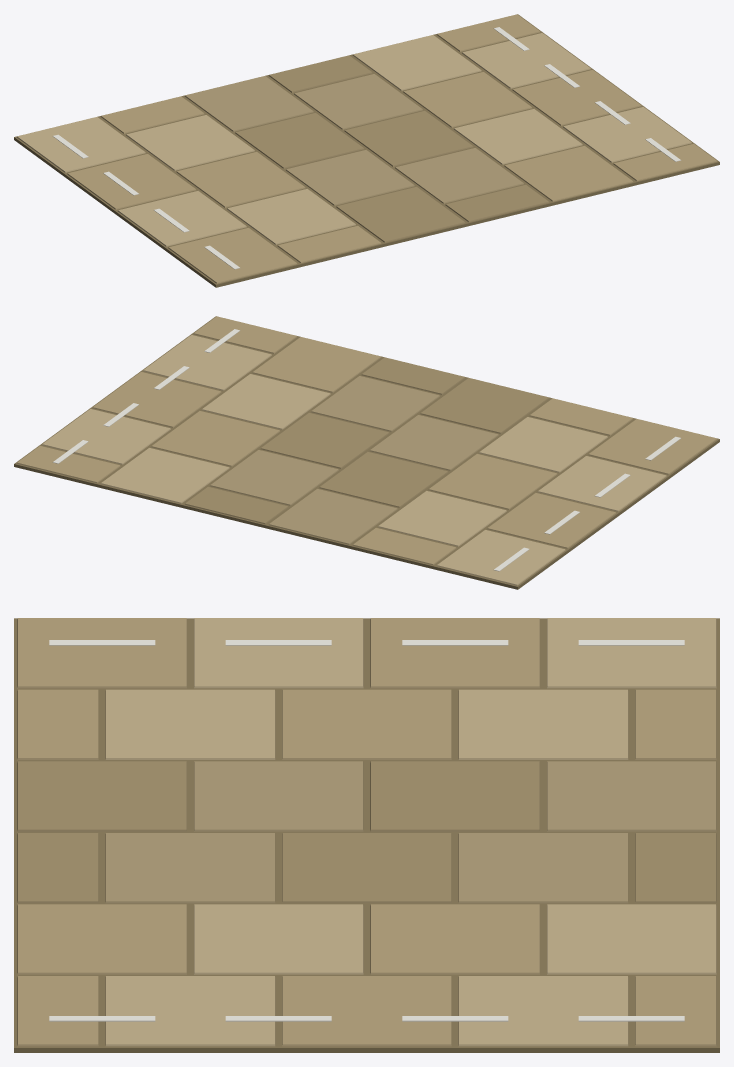
The model's file is road_tile.glb.
3 views of the same model, one above another, from view 1: azimuth 30°, elevation 25°; view 2: azimuth 150°, elevation 25°; view 3: azimuth 270°, elevation 25° (orthographic). The views are drawn at different scales.
Parts seen in each view (by area): view 1: road_tile; view 2: road_tile; view 3: road_tile.
Part boxes in pixels (x1,y1,x2,y2): road_tile: [14, 14, 719, 287]; road_tile: [14, 316, 719, 589]; road_tile: [14, 618, 719, 1052].
Bounding box in the file's own units: 14.4 × 0.12 × 10.
1 material, 1 textured.
